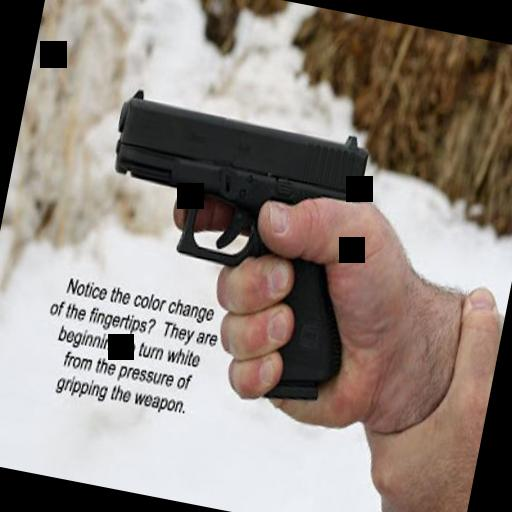Handgun: (70, 82, 383, 404)
